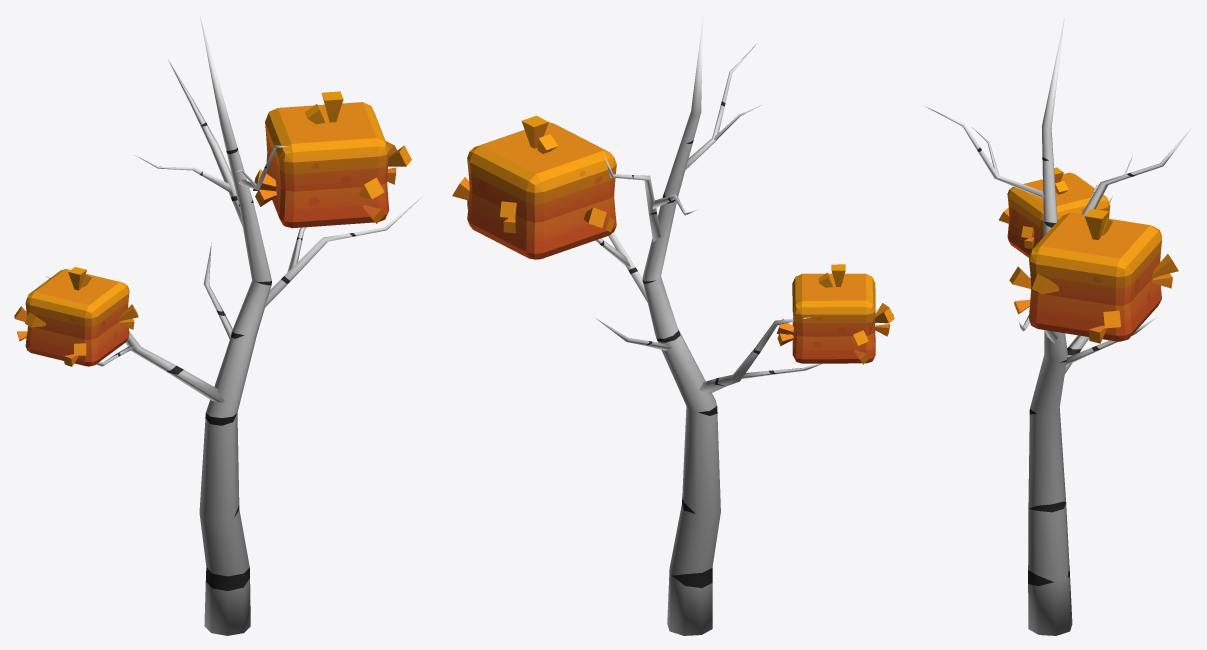
File: birch5.glb
3 views of the same model, side by side, from view 1: azimuth 30°, elevation 25°; view 2: azimuth 150°, elevation 25°; view 3: azimuth 270°, elevation 25° (orthographic). The views are drawn at different scales.
Parts seen in each view (by area): view 1: birch5; view 2: birch5; view 3: birch5.
Boxes of the visible parts, box(x1,y1,x2,y2) form: birch5: box(14, 15, 421, 635); birch5: box(452, 15, 894, 635); birch5: box(925, 16, 1191, 635).
Bounding box in the file's own units: 4.53 × 6.63 × 2.69.
Materials: 1 (1 with a texture image).
